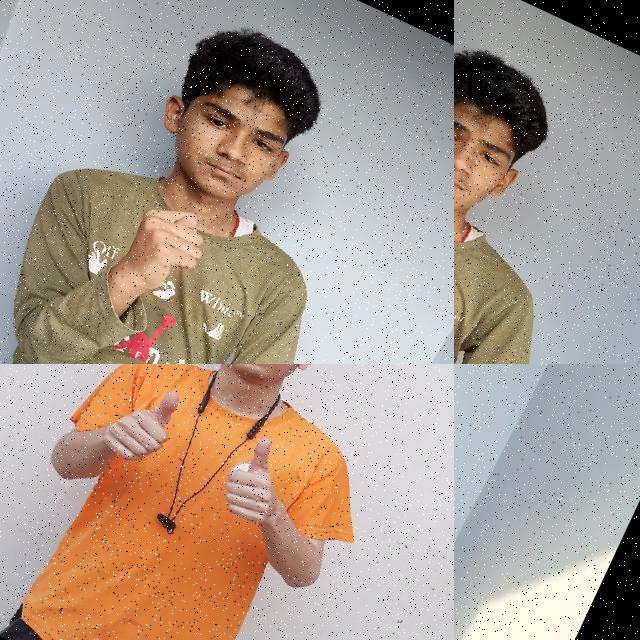Dulya: (90, 178, 230, 345)
Thumbs Up: (88, 366, 194, 486), (205, 427, 302, 540)
